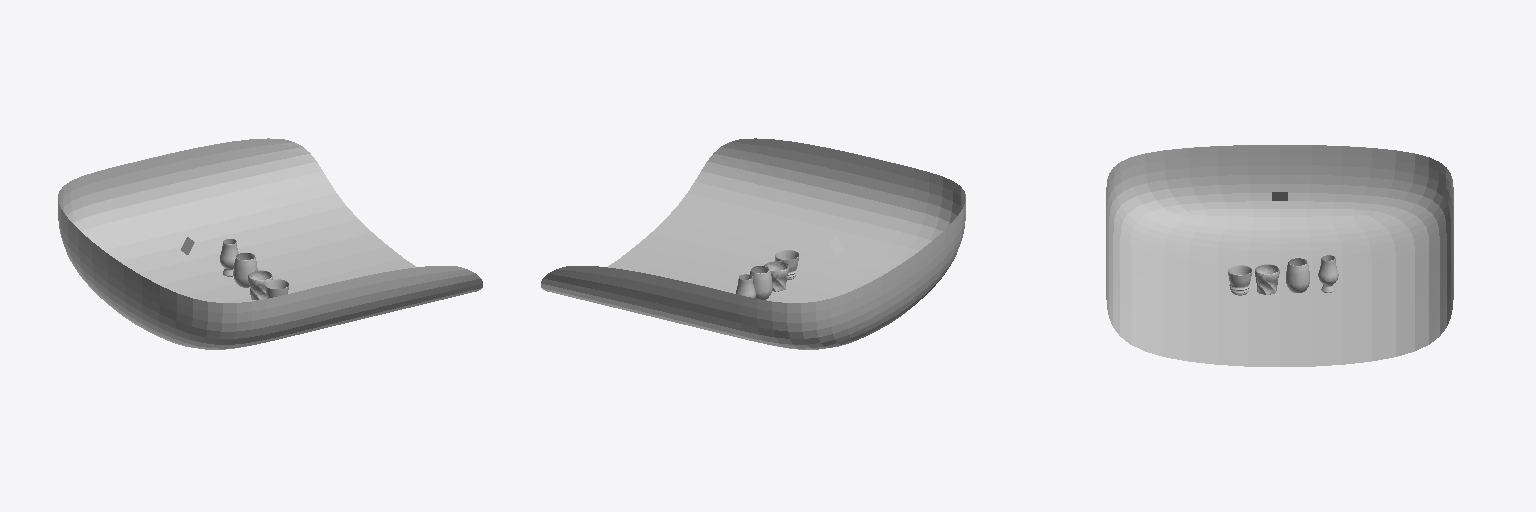
Rendered from glasses.obj.
The picture shows the model from 3 angles: view 1: azimuth 30°, elevation 25°; view 2: azimuth 150°, elevation 25°; view 3: azimuth 270°, elevation 25°; orthographic projection.
Visible parts, largest first — view 1: Plane, Glass1, Glass; view 2: Plane, Glass1; view 3: Plane, Glass1, Glass, Glass3, Glass2.
Boxes of the visible parts, <box> form: Plane: <box>58,138,482,349</box>; Glass1: <box>233,252,257,287</box>; Glass: <box>248,270,272,300</box>; Plane: <box>541,138,965,349</box>; Glass1: <box>750,266,772,299</box>; Plane: <box>1106,145,1453,366</box>; Glass1: <box>1286,258,1309,292</box>; Glass: <box>1255,264,1279,294</box>; Glass3: <box>1228,265,1251,295</box>; Glass2: <box>1318,255,1338,292</box>.
Bounding box in the file's own units: 44.44 × 11.1 × 45.02.